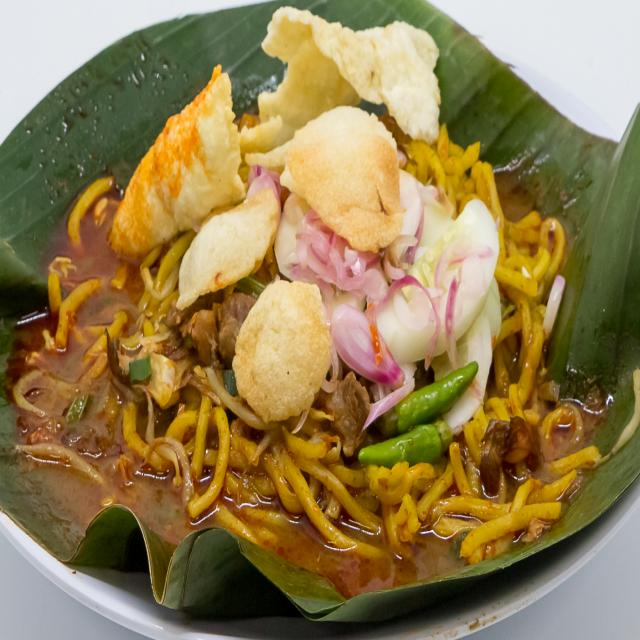Mie-Aceh: (24, 3, 607, 593)
